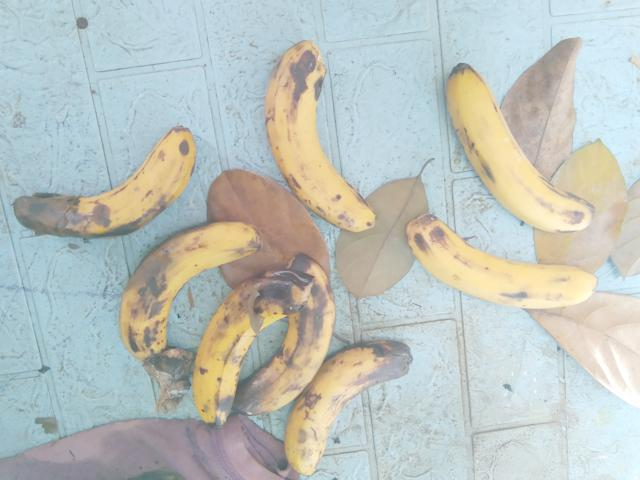overripe: (251, 24, 381, 245)
ripe: (422, 49, 598, 235), (396, 209, 615, 320)
rotten: (0, 105, 203, 268), (103, 196, 262, 366), (255, 334, 414, 479)
